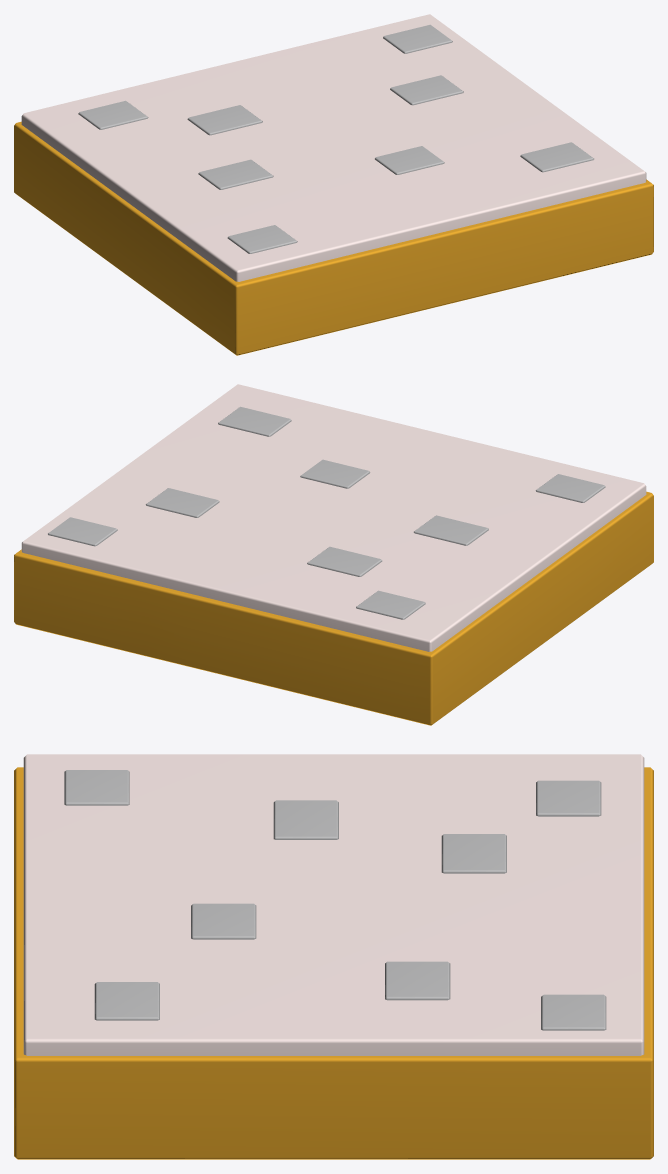
File: Isl_9_Base_1.fbx
3 renders of one model, top to bottom at view 1: azimuth 30°, elevation 25°; view 2: azimuth 150°, elevation 25°; view 3: azimuth 270°, elevation 25°, orthographic. The views are drawn at different scales.
Visible parts, largest first — view 1: Isl_9_Base_1; view 2: Isl_9_Base_1; view 3: Isl_9_Base_1.
Part boxes in pixels (<box>): Isl_9_Base_1: <box>14,14,653,355</box>; Isl_9_Base_1: <box>14,384,653,725</box>; Isl_9_Base_1: <box>14,754,653,1159</box>.
Bounding box in the file's own units: 863 × 166 × 796.
